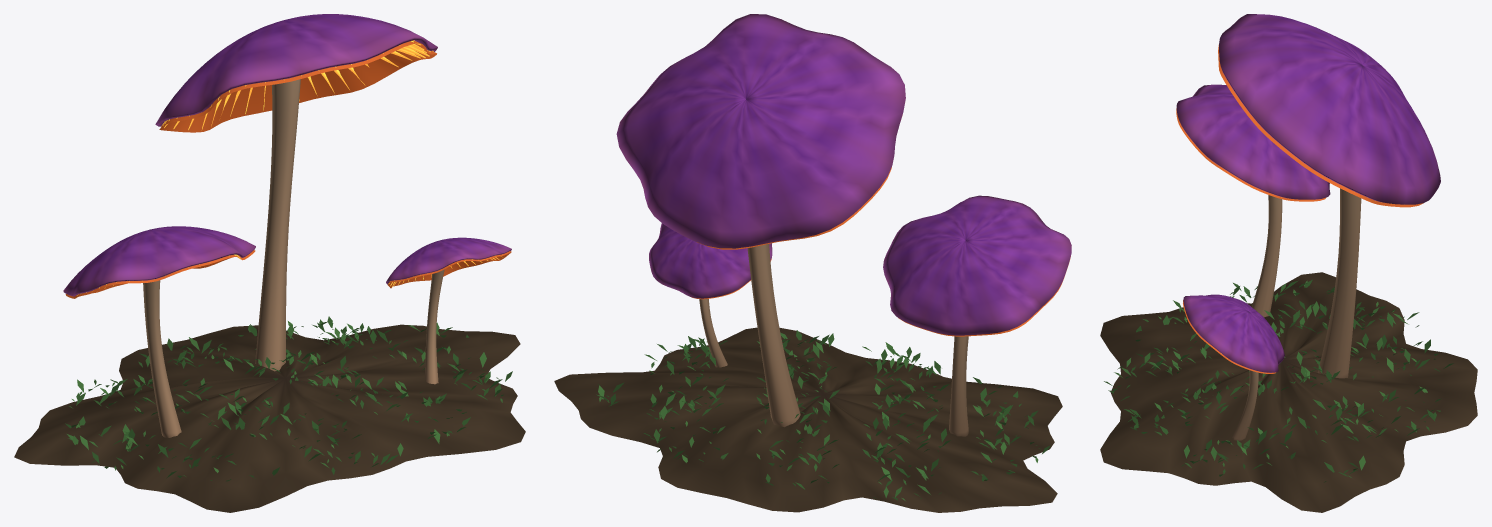
The model's file is magical-mushroom-v2.glb.
3 views of the same model, side by side, from view 1: azimuth 30°, elevation 25°; view 2: azimuth 150°, elevation 25°; view 3: azimuth 270°, elevation 25° (orthographic).
Parts seen in each view (by area): view 1: Uneven_Forest_Earth.002, Cap_Hero.002, Moss_Leaf_Carpet.002, Stem_Hero.002, Cap_Companion.002, Underside_Hero.002, Stem_Companion.002, Cap_Young.002, Stem_Young.002, Radial_Gills_Hero.002, Underside_Young.002, Underside_Companion.002; view 2: Uneven_Forest_Earth.002, Cap_Hero.002, Cap_Companion.002, Moss_Leaf_Carpet.002, Cap_Young.002, Stem_Hero.002, Stem_Companion.002, Stem_Young.002; view 3: Uneven_Forest_Earth.002, Cap_Hero.002, Cap_Companion.002, Moss_Leaf_Carpet.002, Cap_Young.002, Stem_Hero.002, Stem_Companion.002, Underside_Hero.002, Stem_Young.002, Underside_Companion.002.
Part boxes in pixels (x1,y1,x2,y2): Uneven_Forest_Earth.002: (14,324,525,512); Cap_Hero.002: (155,14,437,126); Moss_Leaf_Carpet.002: (65,316,512,481); Stem_Hero.002: (255,79,300,371); Cap_Companion.002: (63,226,255,296); Underside_Hero.002: (159,40,436,132); Stem_Companion.002: (143,280,181,437); Cap_Young.002: (386,237,511,284); Stem_Young.002: (425,269,444,384); Radial_Gills_Hero.002: (161,40,433,129); Underside_Young.002: (387,251,511,288); Underside_Companion.002: (65,250,255,298); Uneven_Forest_Earth.002: (554,327,1062,512); Cap_Hero.002: (616,14,905,248); Cap_Companion.002: (883,195,1071,335); Moss_Leaf_Carpet.002: (596,330,1050,500); Cap_Young.002: (649,223,772,298); Stem_Hero.002: (747,244,800,427); Stem_Companion.002: (949,336,968,436); Stem_Young.002: (699,299,727,367); Uneven_Forest_Earth.002: (1100,272,1477,512); Cap_Hero.002: (1219,14,1440,204); Cap_Companion.002: (1176,84,1330,199); Moss_Leaf_Carpet.002: (1104,279,1453,482); Cap_Young.002: (1183,294,1284,372); Stem_Hero.002: (1317,188,1361,378); Stem_Companion.002: (1252,195,1282,317); Underside_Hero.002: (1218,45,1423,207); Stem_Young.002: (1232,370,1258,440); Underside_Companion.002: (1176,108,1326,201).
Bounding box in the file's own units: 0.8119 × 0.581 × 0.5381.
